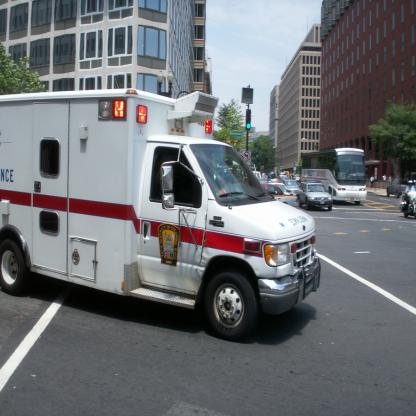Ambulance: (0, 89, 321, 342)
Car: (261, 171, 333, 216)
Truck: (0, 88, 321, 340)
